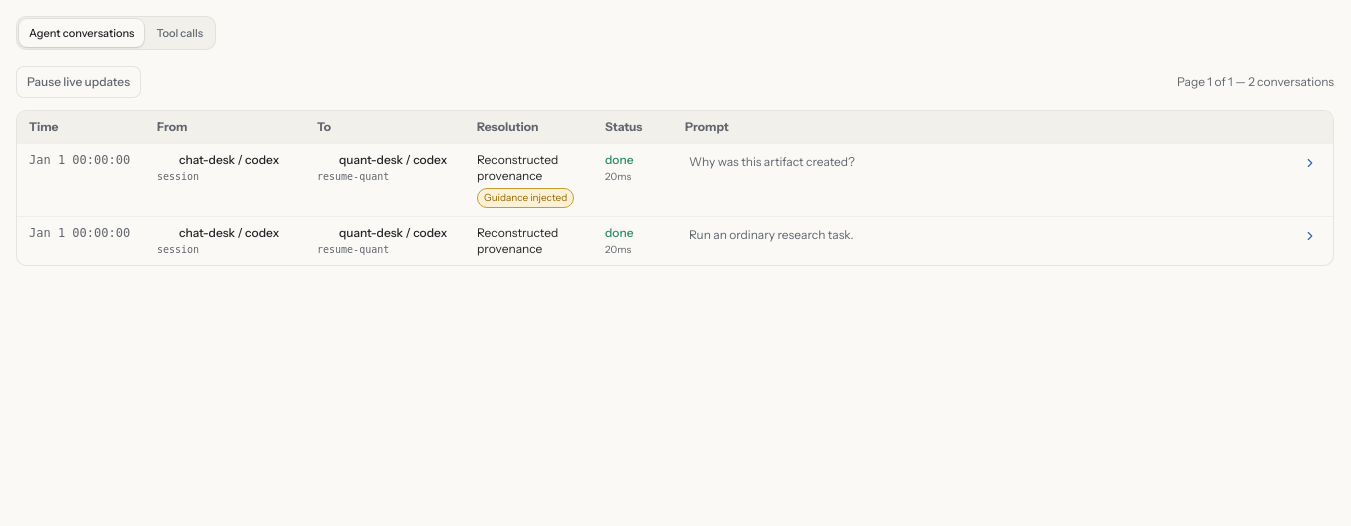
Test case: LogsPage Agent conversations › shows joined routing and keeps provenance separate from prompt injection
This screenshot has width=1351, height=526.
Expected: the text "Page 1 of 1 — 2 conversations" is shown, [1177, 74, 1334, 90]
Expected: the text "Reconstructed provenance" is shown 2 times, [477, 152, 558, 183]; [477, 225, 558, 256]
Step 1. Click the button "Run an ordinary research task." → (771, 234), box [685, 225, 1321, 245]
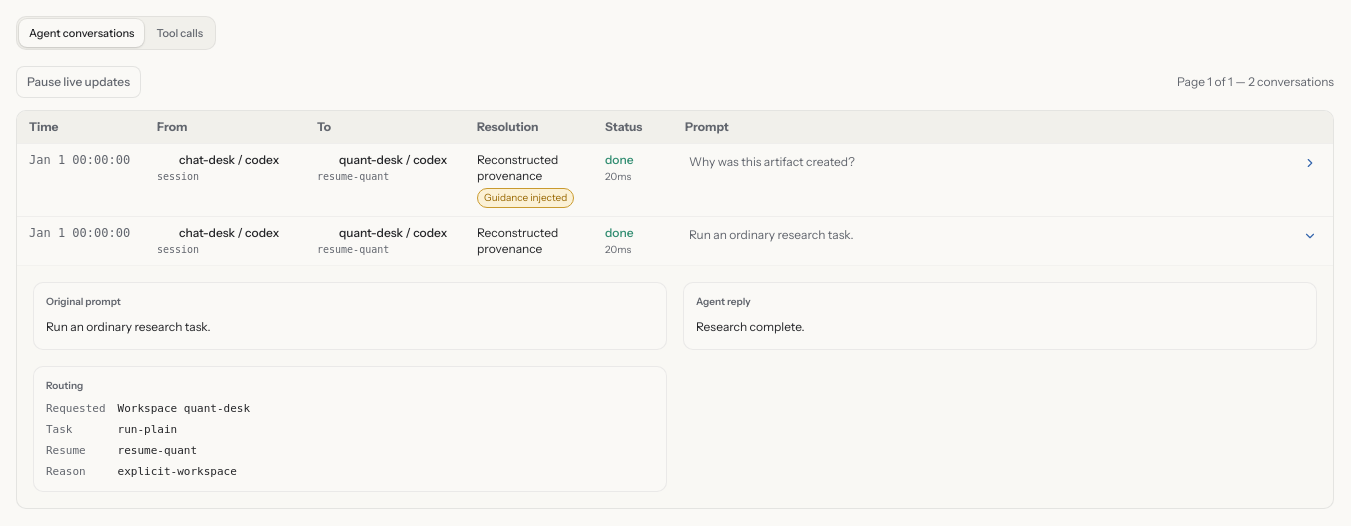
Now the heading "Original prompt" is shown, box [46, 295, 121, 308]
Now the text "Research complete." is shown, box [696, 319, 804, 334]
